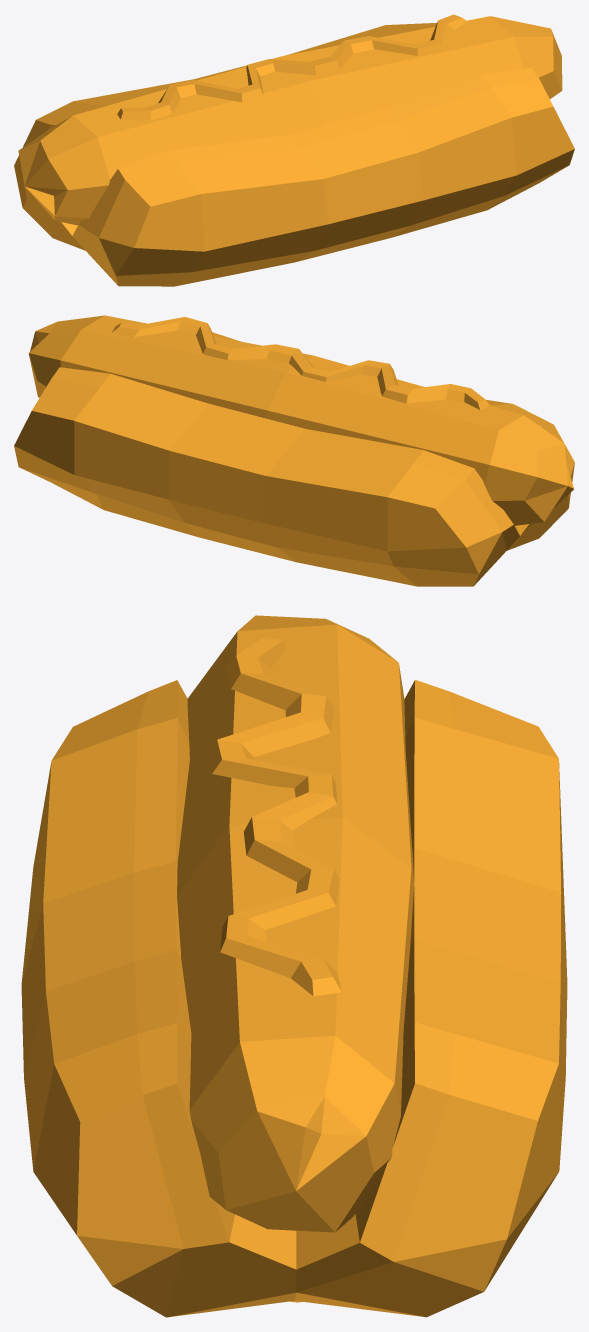
File: SM_Hot_Dog_Mustard.fbx
3 views of the same model, one above another, from view 1: azimuth 30°, elevation 25°; view 2: azimuth 150°, elevation 25°; view 3: azimuth 270°, elevation 25° (orthographic). The views are drawn at different scales.
Visible parts, largest first — view 1: hot-dog-mustard; view 2: hot-dog-mustard; view 3: hot-dog-mustard.
Boxes of the visible parts, box(x1,y1,x2,y2) form: hot-dog-mustard: box(14, 14, 574, 286); hot-dog-mustard: box(14, 315, 574, 586); hot-dog-mustard: box(21, 615, 567, 1317).
Bounding box in the file's own units: 0.2385 × 0.0769 × 0.1049.
